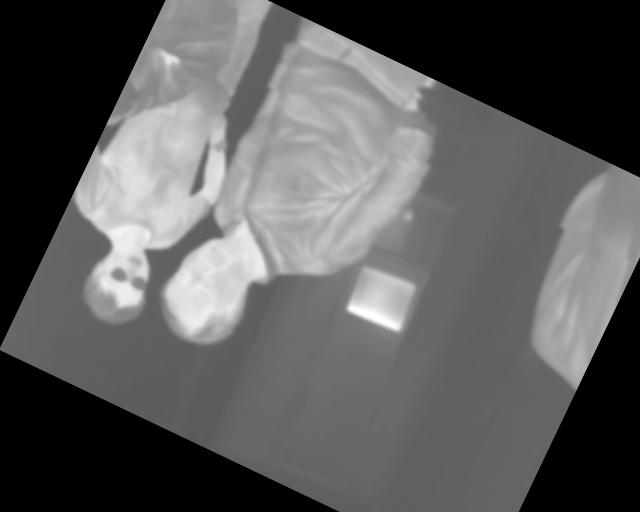face: (145, 222, 270, 359), (72, 232, 165, 335)
